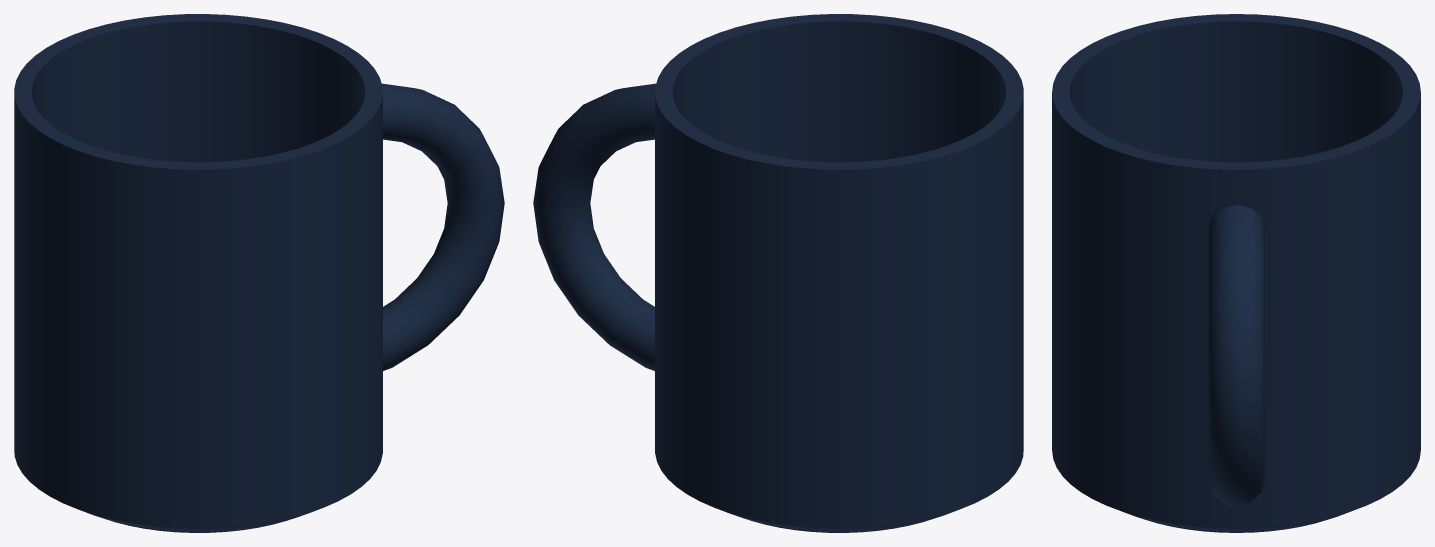
File: mug-330-ml-stoneware.glb
3 views of the same model, side by side, from view 1: azimuth 30°, elevation 25°; view 2: azimuth 150°, elevation 25°; view 3: azimuth 270°, elevation 25° (orthographic).
Parts seen in each view (by area): view 1: Mug 330 ml - Stoneware glaze, slate blue, Handle - Stoneware glaze, slate blue; view 2: Mug 330 ml - Stoneware glaze, slate blue, Handle - Stoneware glaze, slate blue; view 3: Mug 330 ml - Stoneware glaze, slate blue, Handle - Stoneware glaze, slate blue.
Boxes of the visible parts, x1=… form: Mug 330 ml - Stoneware glaze, slate blue: x1=14, y1=14, x2=382, y2=532; Handle - Stoneware glaze, slate blue: x1=382, y1=83, x2=504, y2=370; Mug 330 ml - Stoneware glaze, slate blue: x1=655, y1=14, x2=1023, y2=532; Handle - Stoneware glaze, slate blue: x1=533, y1=83, x2=655, y2=370; Mug 330 ml - Stoneware glaze, slate blue: x1=1052, y1=14, x2=1420, y2=532; Handle - Stoneware glaze, slate blue: x1=1208, y1=205, x2=1264, y2=506.
Bounding box in the file's own units: 0.1215 × 0.095 × 0.084.
Materials: 1 (1 with a texture image).
